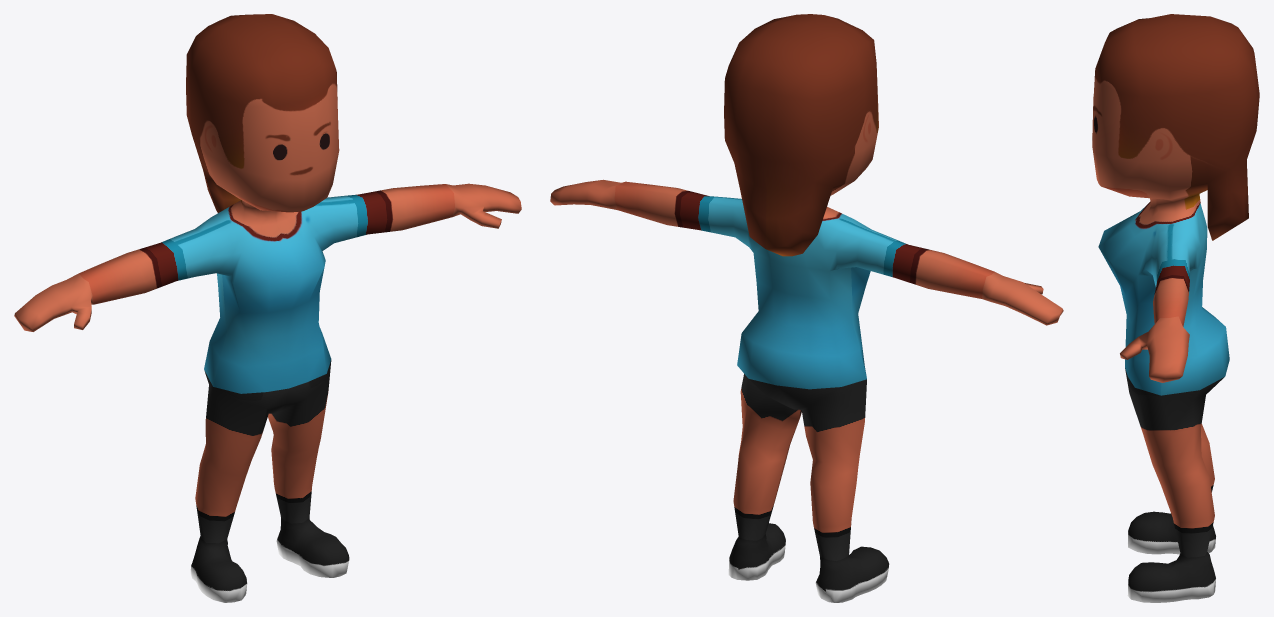
Rendered from Female.fbx.
The picture shows the model from 3 angles, left to right: view 1: azimuth 30°, elevation 25°; view 2: azimuth 150°, elevation 25°; view 3: azimuth 270°, elevation 25°; orthographic projection.
Parts seen in each view (by area): view 1: characterMedium; view 2: characterMedium; view 3: characterMedium.
Boxes of the visible parts, x1=… form: characterMedium: x1=14, y1=14, x2=521, y2=602; characterMedium: x1=550, y1=14, x2=1063, y2=602; characterMedium: x1=1092, y1=14, x2=1259, y2=602.
Size of the model in its own units: 362 by 376 by 105.
Materials: 1 (1 with a texture image).
